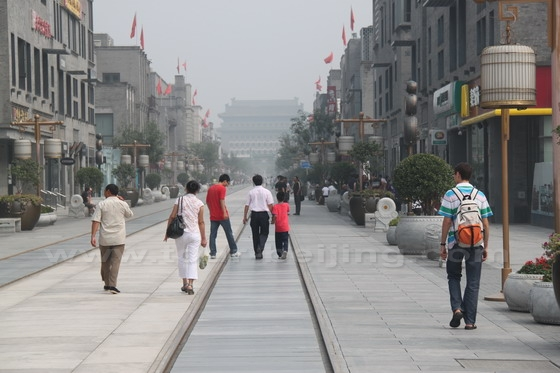pedestrian: (429, 158, 491, 331), (161, 175, 210, 295), (89, 184, 136, 296), (205, 171, 241, 259), (239, 172, 271, 259), (272, 188, 293, 262)
